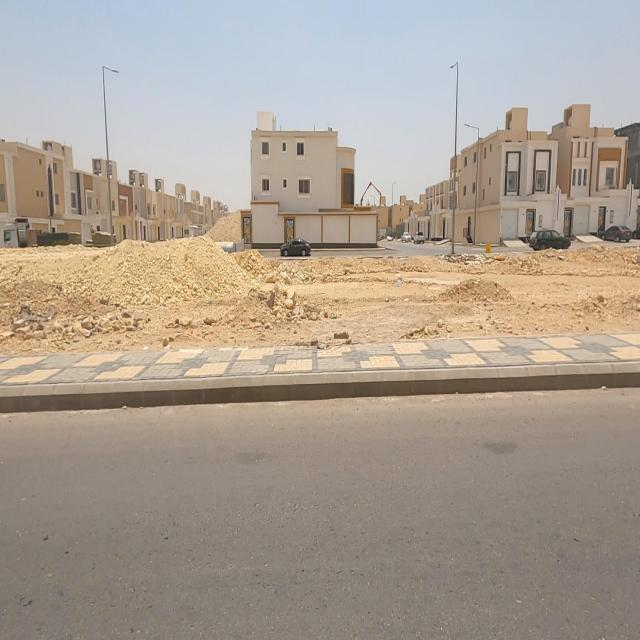debris: (362, 241, 436, 321)
